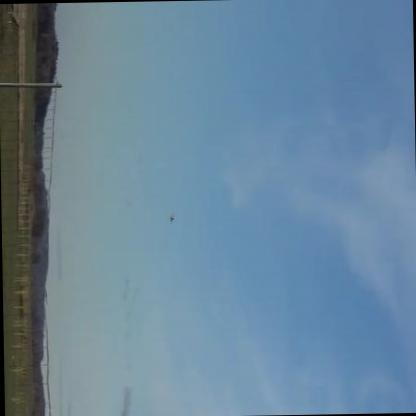plane: (167, 214, 175, 223)
